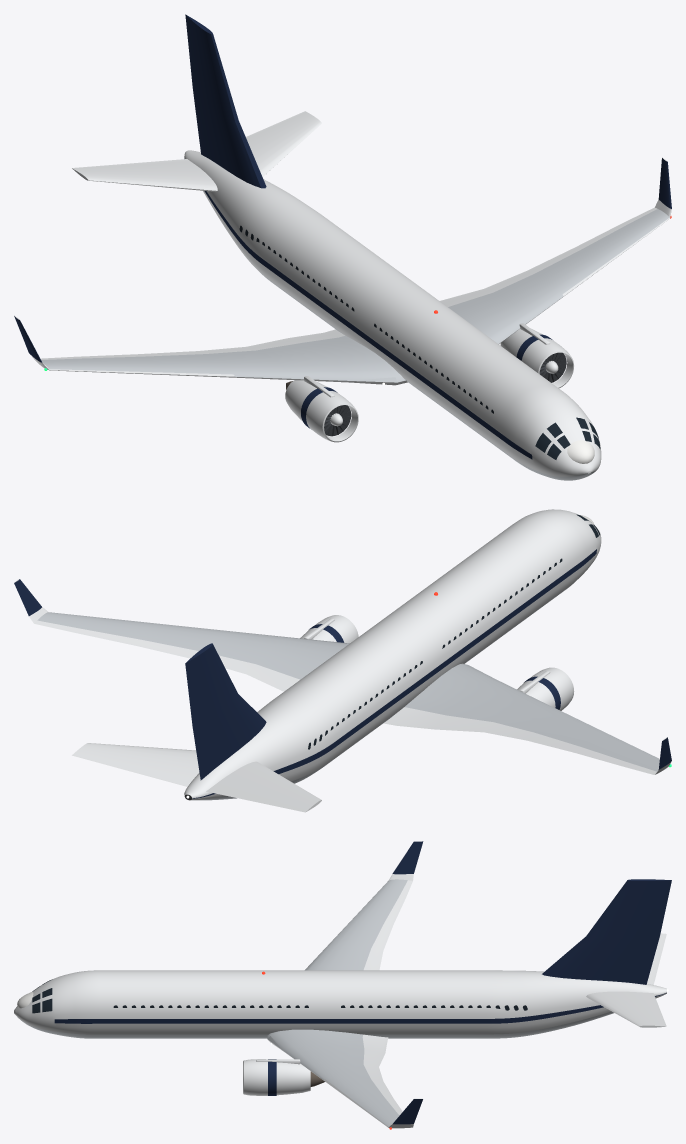
File: airliner-flight.glb
The picture shows the model from 3 angles, top to bottom: view 1: azimuth 30°, elevation 25°; view 2: azimuth 150°, elevation 25°; view 3: azimuth 270°, elevation 25°; orthographic projection. The views are drawn at different scales.
Parts seen in each view (by area): view 1: Airliner; view 2: Airliner; view 3: Airliner.
Boxes of the visible parts, <box> form: Airliner: <box>14,14,671,480</box>; Airliner: <box>14,509,671,812</box>; Airliner: <box>14,841,671,1129</box>.
Size of the model in its own units: 35.55 by 11.02 by 38.35.
